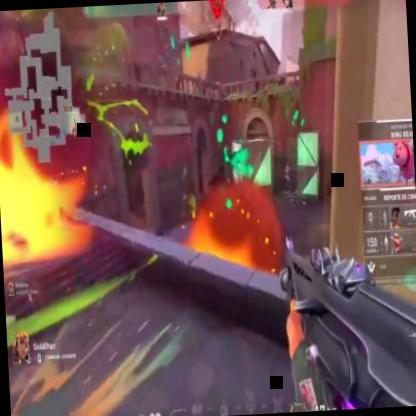enemy: (283, 161, 291, 191)
enemy_head: (286, 162, 288, 167)
